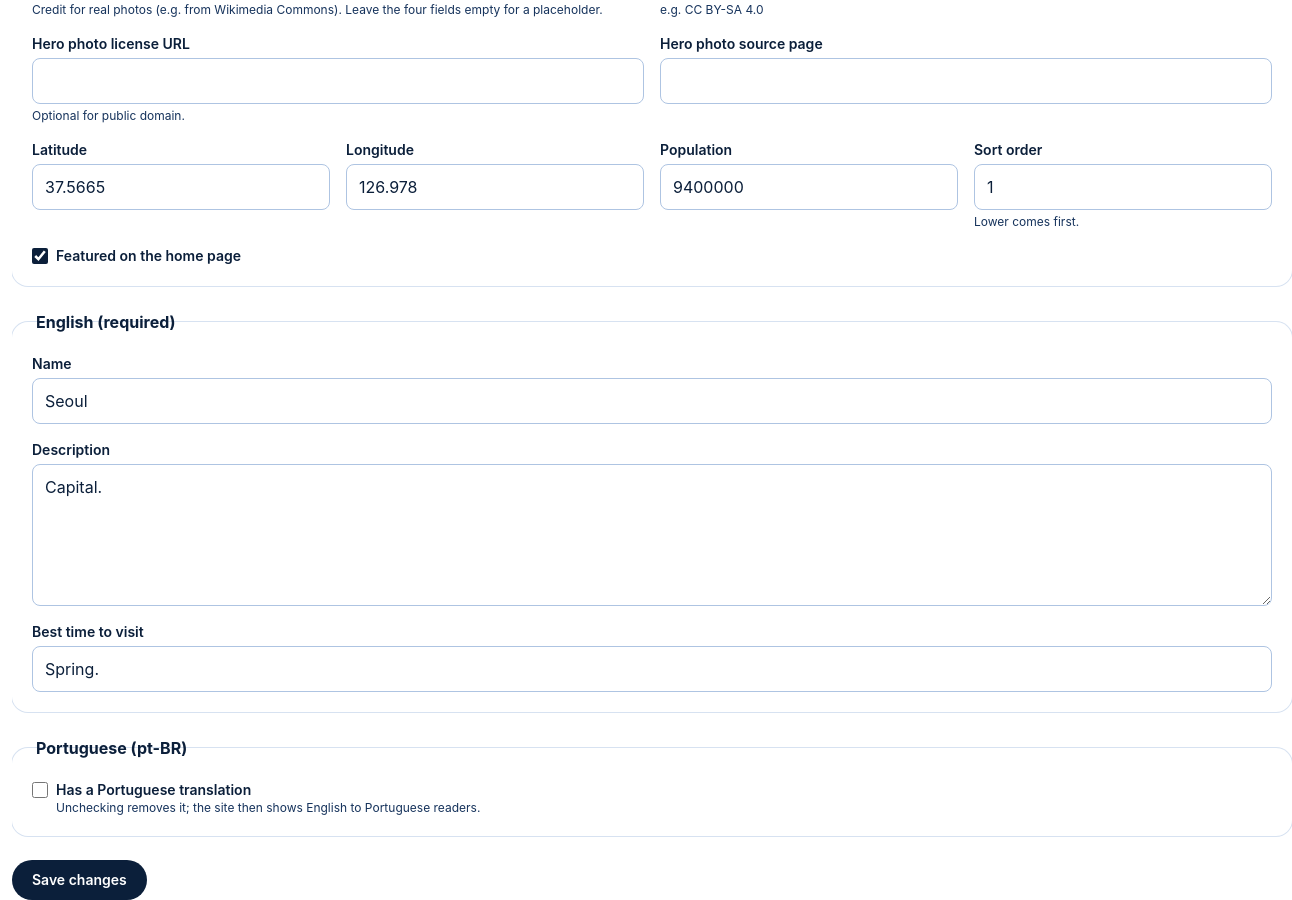
Test: CityForm › Portuguese is optional, but all of it or nothing
The image size is (1292, 900).
(page scrolled)
Click the checkbox labelled "Has a Portuguese translation".
click(40, 790)  # box [32, 782, 48, 798]
(page scrolled)
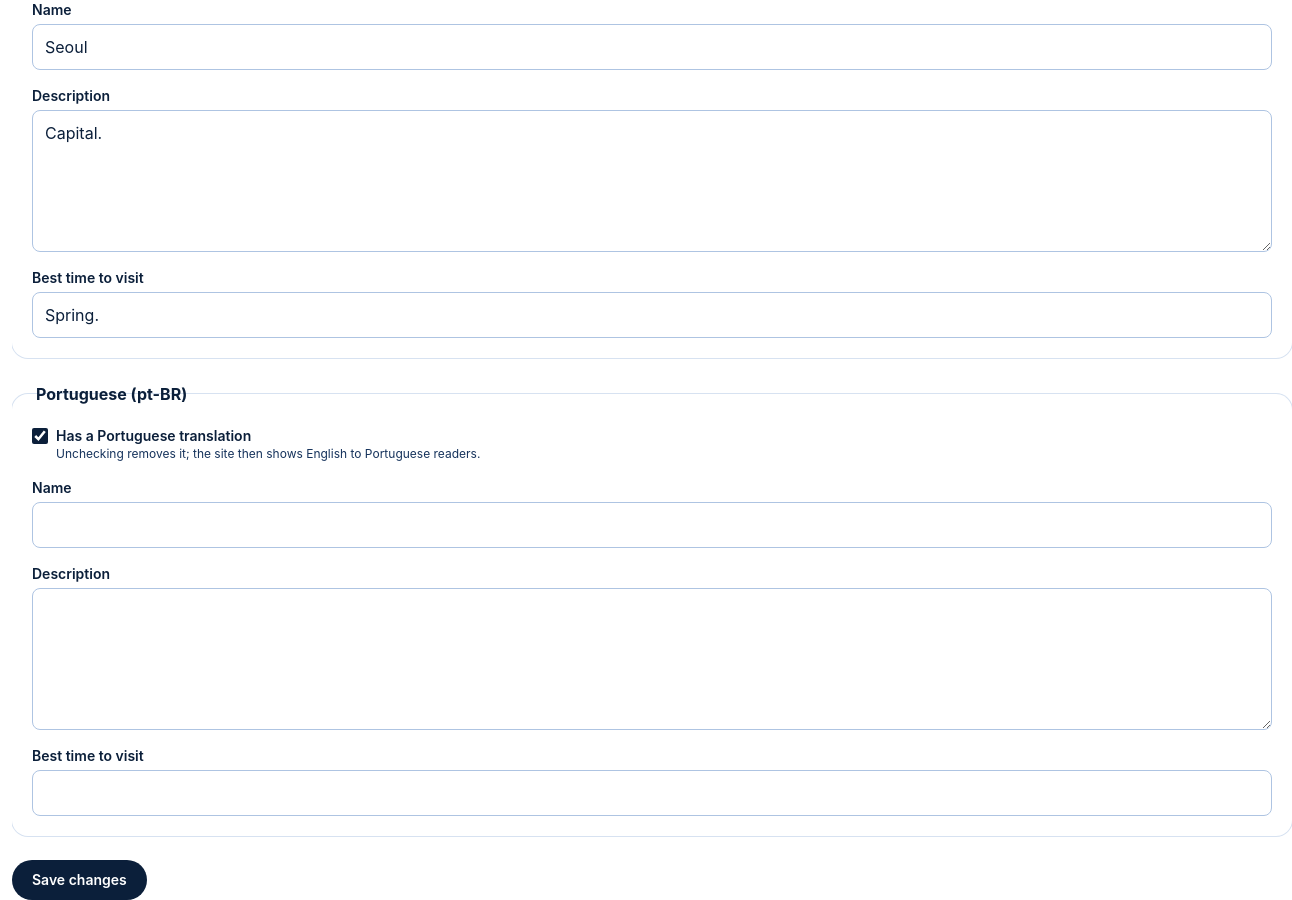
Type "Seul" into the field labelled "Name" below "Has a Portuguese translation".
click(652, 525); type("Seul")  # box [32, 502, 1272, 548]
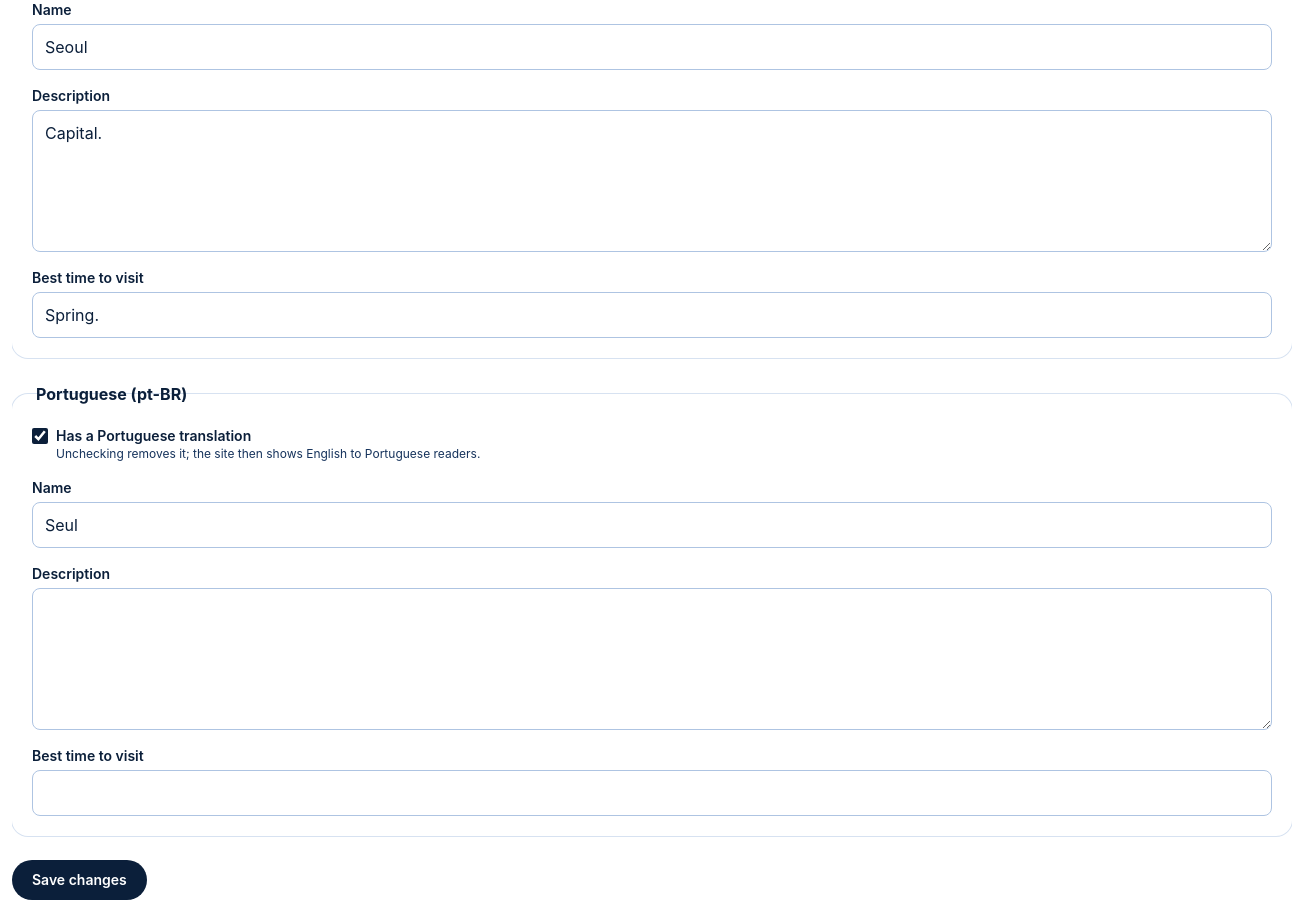
Click the button "Save changes".
click(79, 880)  # box [12, 860, 147, 899]
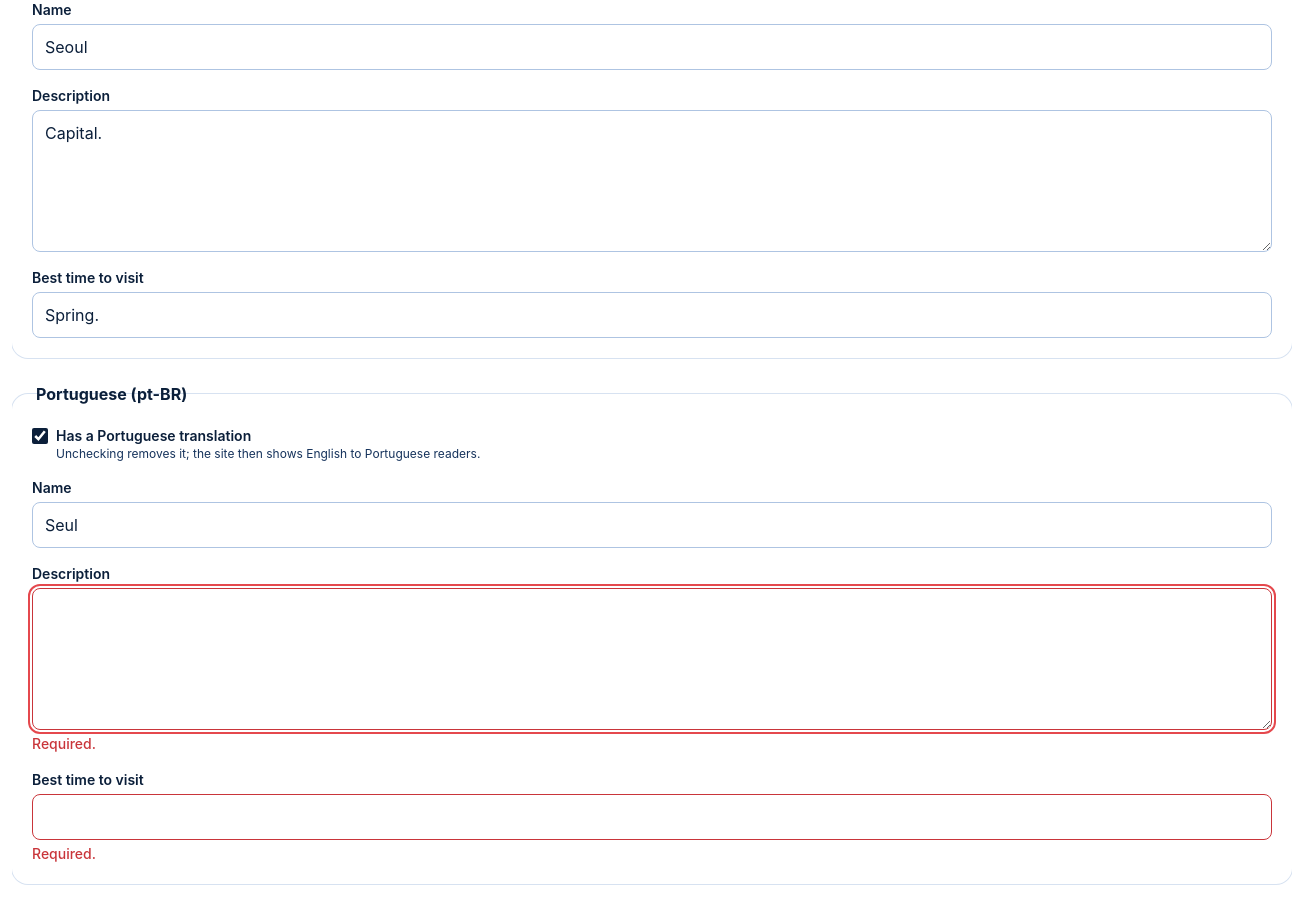
Now the text "Required." is shown 2 times, box [32, 735, 96, 752]; [32, 845, 96, 862]
